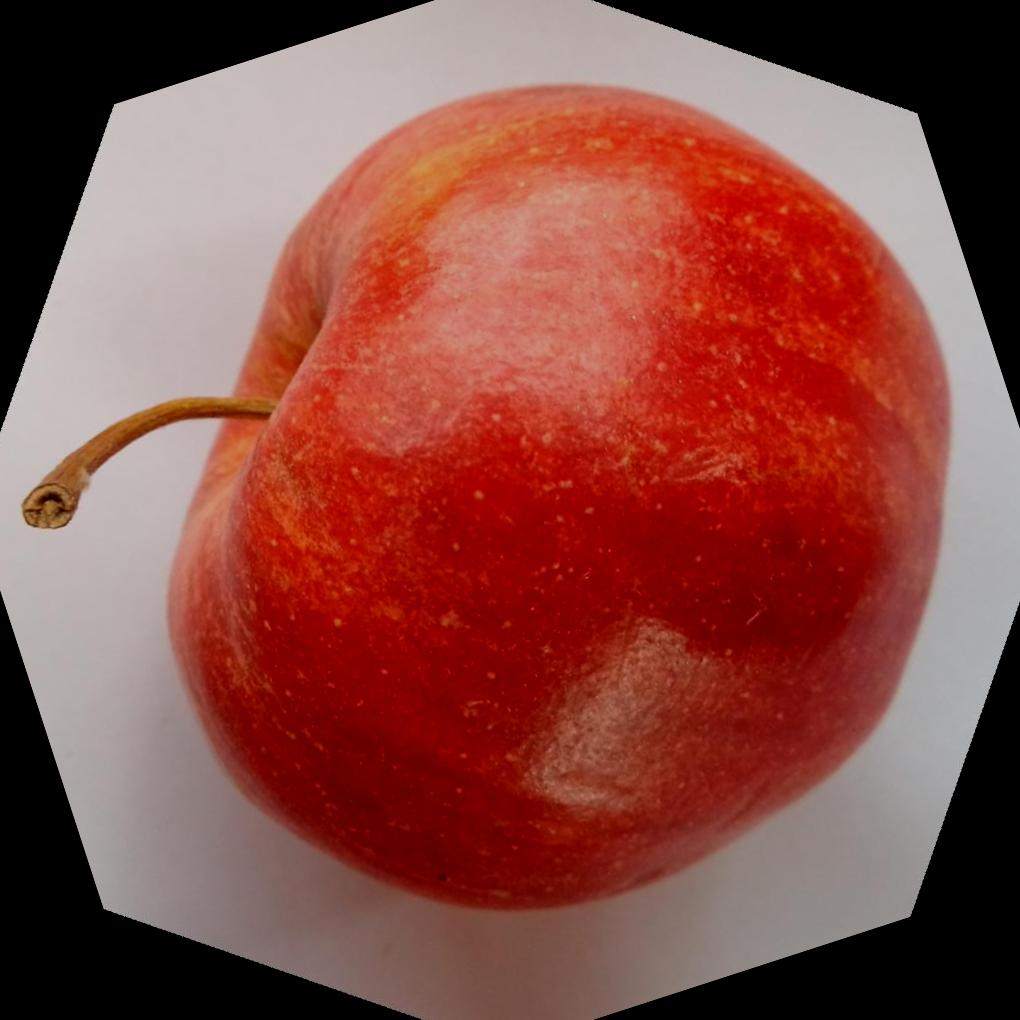FreshGuava: (27, 81, 958, 913)
